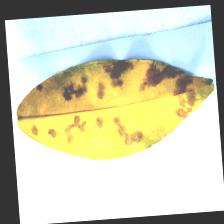black spot: (54, 60, 192, 112)
